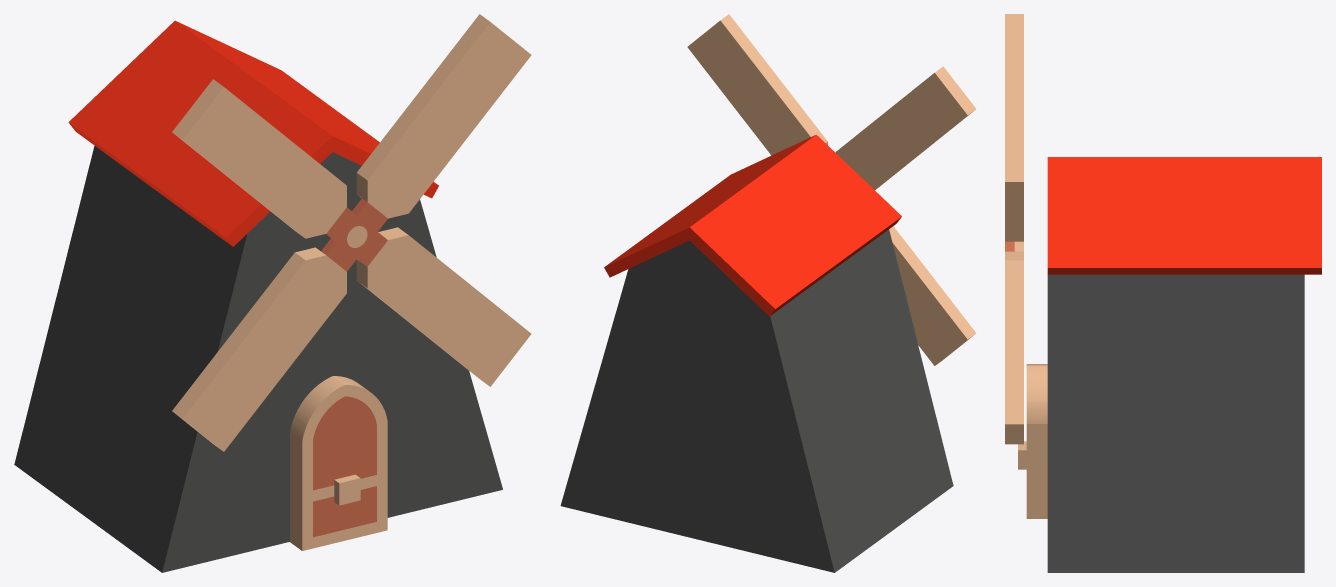
File: Windmill.fbx
3 renders of one model, left to right at view 1: azimuth 30°, elevation 25°; view 2: azimuth 150°, elevation 25°; view 3: azimuth 270°, elevation 25°, orthographic. The views are drawn at different scales.
Visible parts, largest first — view 1: mergedBlocks; view 2: mergedBlocks; view 3: mergedBlocks.
Boxes of the visible parts, x1,y1,x2,y2 form: mergedBlocks: [14, 14, 531, 572]; mergedBlocks: [560, 14, 976, 572]; mergedBlocks: [1005, 14, 1321, 572].
Bounding box in the file's own units: 8.18 × 11.1 × 7.4.
